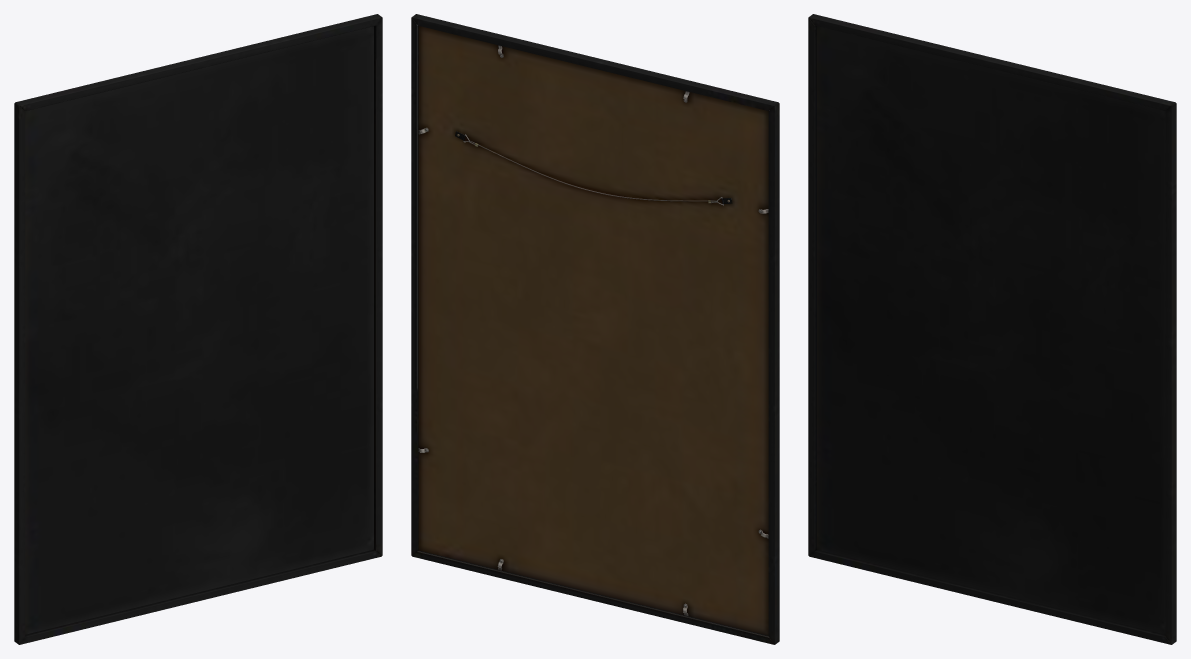
The model's file is hanging_picture_frame_01_1k.gltf.
3 renders of one model, left to right at view 1: azimuth 30°, elevation 25°; view 2: azimuth 150°, elevation 25°; view 3: azimuth 330°, elevation 25°, orthographic.
Parts seen in each view (by area): view 1: hanging_picture_frame_01; view 2: hanging_picture_frame_01; view 3: hanging_picture_frame_01.
Part boxes in pixels (x1,y1,x2,y2): hanging_picture_frame_01: (14, 14, 382, 644); hanging_picture_frame_01: (411, 14, 779, 644); hanging_picture_frame_01: (808, 14, 1176, 644).
Bounding box in the file's own units: 0.594 × 0.841 × 0.0157.
Materials: 3 (3 with a texture image).
